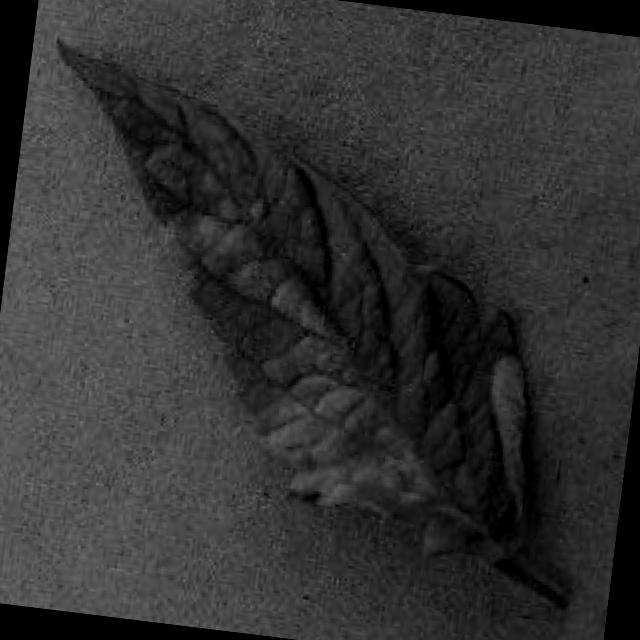leaf mold: (60, 46, 560, 606)
